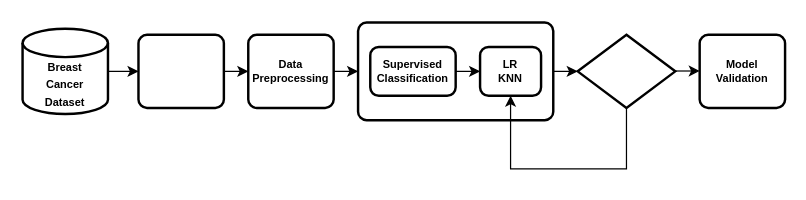
The diagram is 806 pixels wide and 200 high, and some of its shapes have lost their labels. The shapes that lost their labels are listed below. From the top down, each one's box as (x1, y1, x2, y2) in pixels, then its label:
(137, 33, 224, 109): Exploratory Data Analysis
(576, 33, 676, 109): Best Outcome
